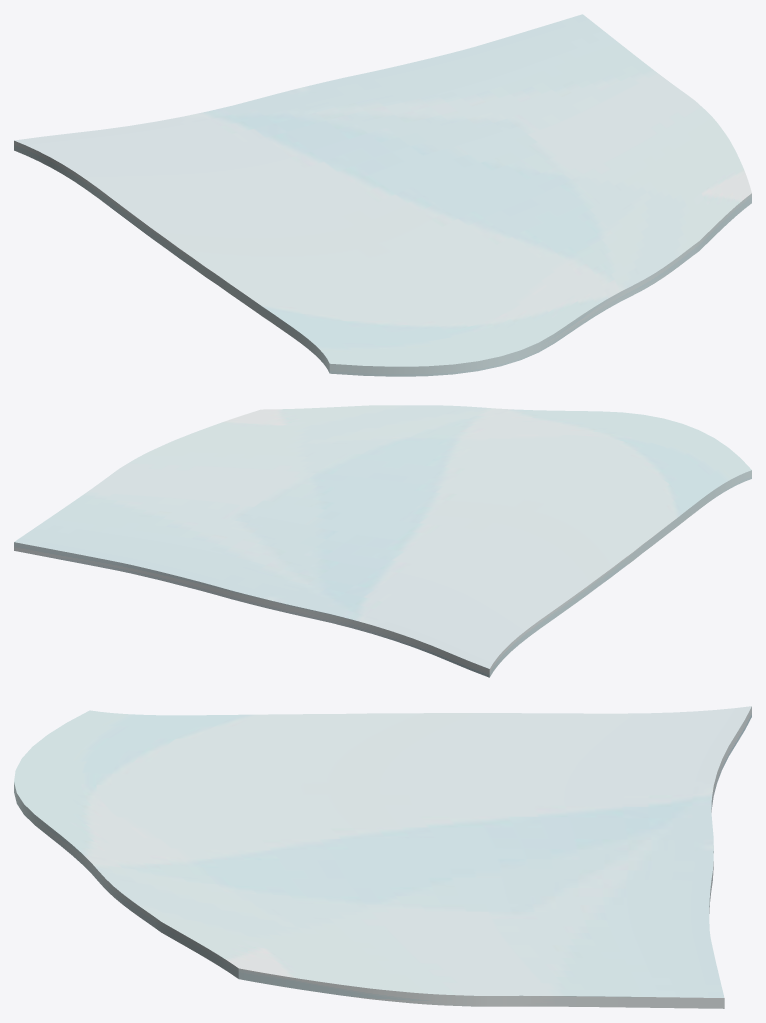
Rendered from ice_sheet1.obj.
3 views of the same model, one above another, from view 1: azimuth 30°, elevation 25°; view 2: azimuth 150°, elevation 25°; view 3: azimuth 270°, elevation 25° (orthographic). The views are drawn at different scales.
Visible parts, largest first — view 1: pCube3; view 2: pCube3; view 3: pCube3.
Part boxes in pixels (x1,y1,x2,y2): pCube3: (14,14,751,376); pCube3: (14,405,751,677); pCube3: (14,706,751,1008).
Bounding box in the file's own units: 2.7 × 0.0463 × 2.89.
